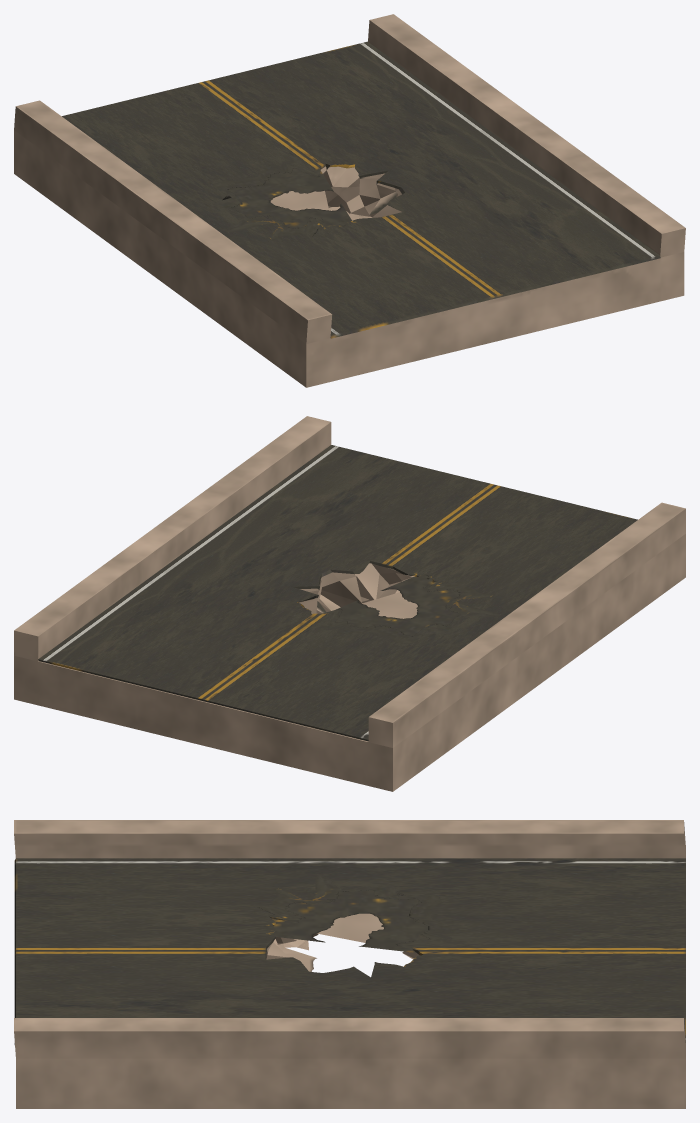
Rendered from Road_Tile_Broken_Middle.fbx.
3 renders of one model, top to bottom at view 1: azimuth 30°, elevation 25°; view 2: azimuth 150°, elevation 25°; view 3: azimuth 270°, elevation 25°, orthographic. The views are drawn at different scales.
Parts seen in each view (by area): view 1: Road.004, Road_Tile_Broken_Middle; view 2: Road.004, Road_Tile_Broken_Middle; view 3: Road.004, Road_Tile_Broken_Middle.
Part boxes in pixels (<box>): Road.004: <box>62,41,660,338</box>; Road_Tile_Broken_Middle: <box>14,14,685,387</box>; Road.004: <box>38,445,637,741</box>; Road_Tile_Broken_Middle: <box>14,416,685,791</box>; Road.004: <box>14,858,685,1044</box>; Road_Tile_Broken_Middle: <box>14,820,685,1108</box>.
Bounding box in the file's own units: 394 × 67.6 × 528.
Materials: 1 (1 with a texture image).
